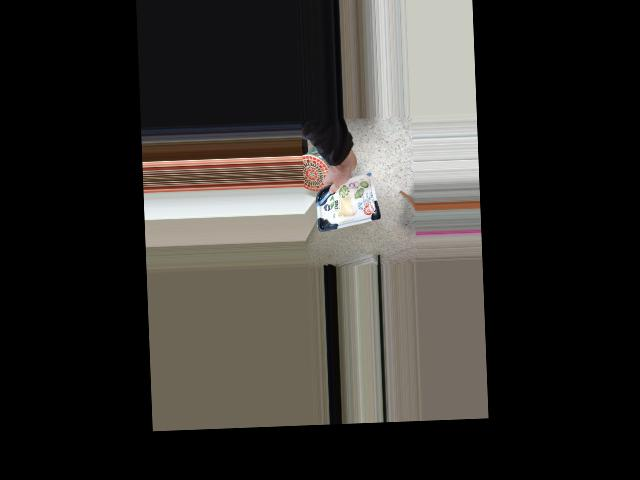cheese: (325, 163, 374, 215)
